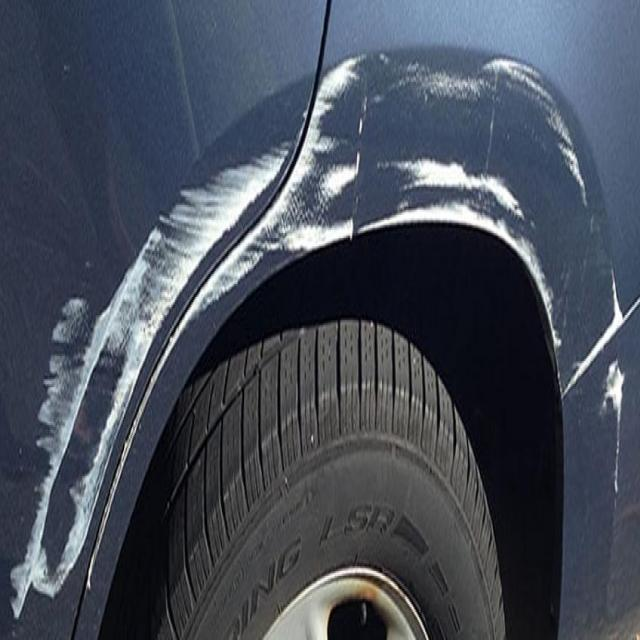scratch: (6, 30, 372, 605), (386, 26, 640, 461)
